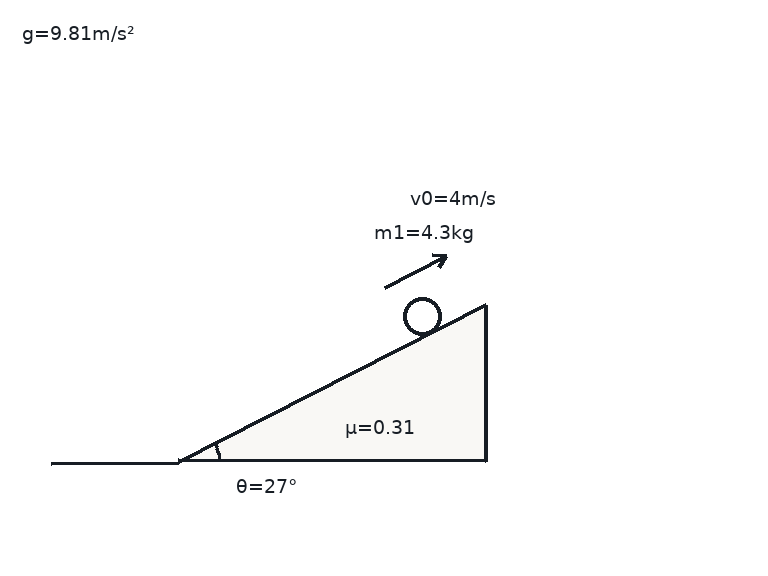ball: (401, 295, 443, 337)
ramp: (177, 302, 488, 463)
